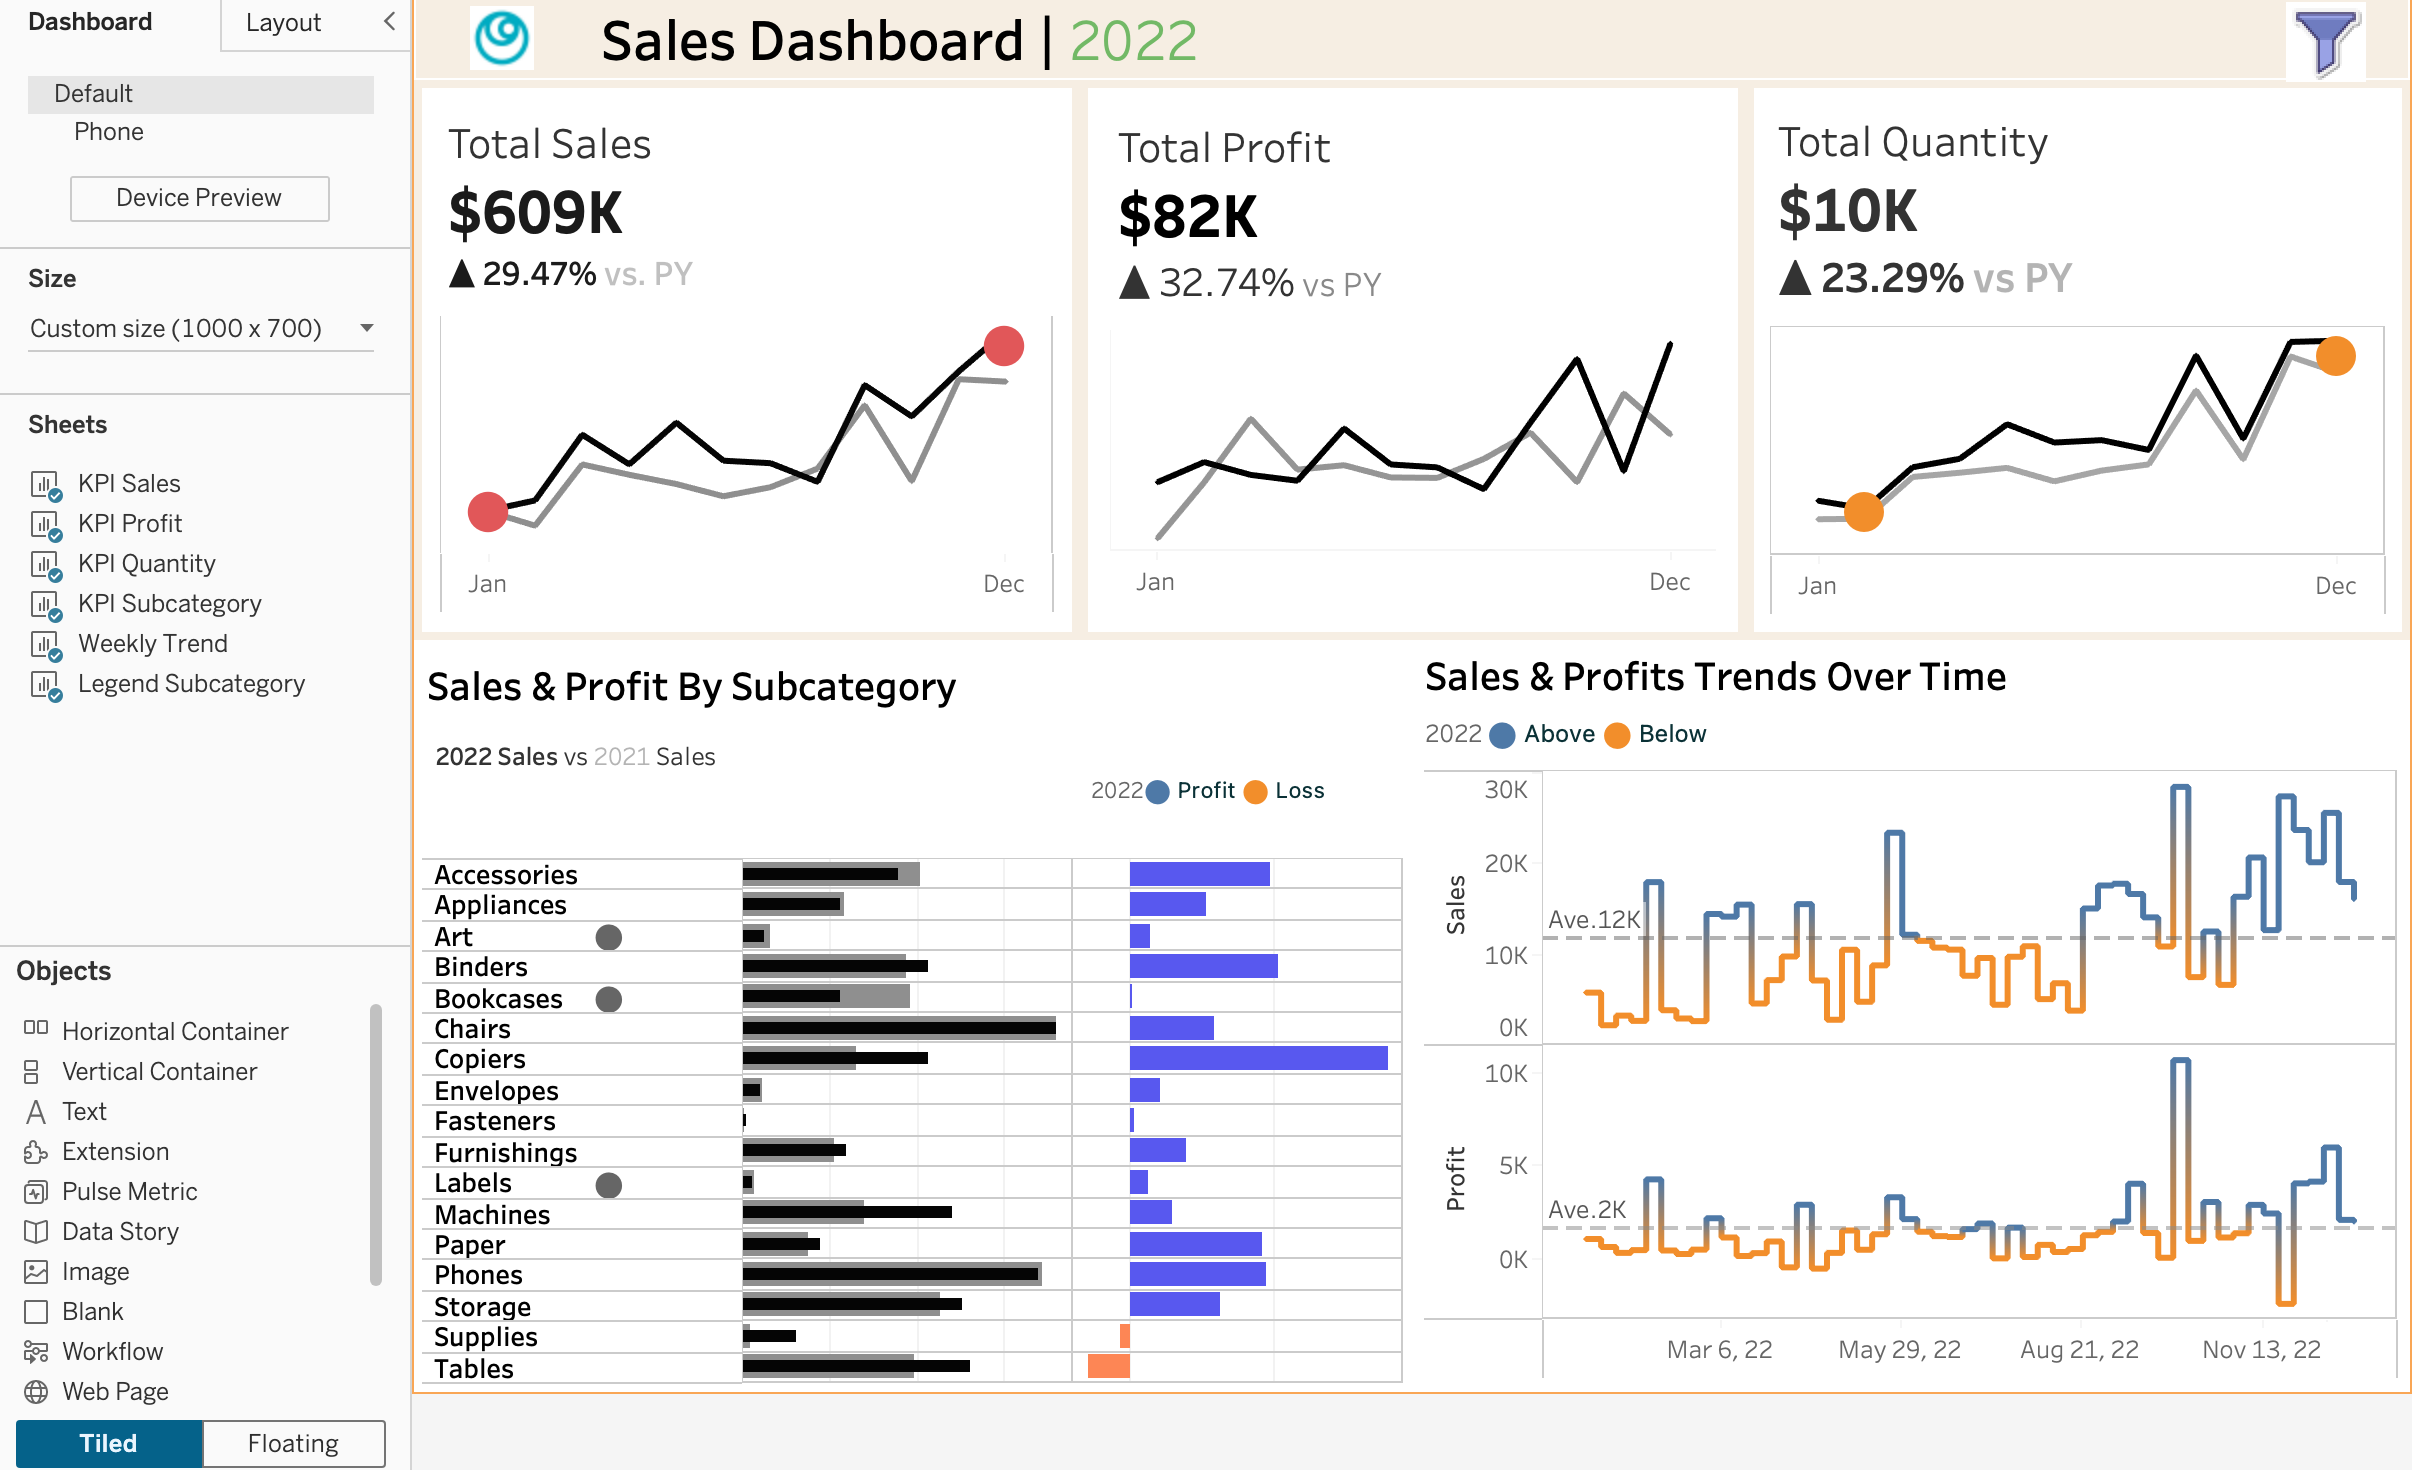

What the dashboard file says about the page in this screenshot:
{"tool":"tableau","page":{"name":"Sales Dashboard","canvas":[1000,700],"ordinal":0},"visuals":[{"type":"image","param":"Image/fibonacci-circles.jpg","box":[2,2,86,40]},{"type":"text","box":[88,2,910,40]},{"type":"dashboard-object","box":[922,4,70,40]},{"type":"worksheet","title":"KPI Sales","mark":"Automatic","rows":["Calculation_891501644715675652"],"cols":["Order Date"],"box":[1,43,333,280]},{"type":"worksheet","title":"KPI Profit","mark":"Line","cols":["Order Date"],"box":[334,43,333,280]},{"type":"worksheet","title":"KPI Quantity","mark":"Automatic","rows":["Min/Max Sales (copy)_891501645071990815"],"cols":["Order Date"],"box":[667,43,332,280]},{"type":"text","box":[1,323,499,45]},{"type":"text","box":[500,323,499,34]},{"type":"text","box":[500,357,499,25]},{"type":"worksheet","title":"Legend Subcategory","mark":"Automatic","box":[1,368,332,60]},{"type":"text","box":[333,368,167,60]},{"type":"worksheet","title":"Weekly Trend","mark":"Automatic","rows":["Calculation_891501644702752768","Calculation_891501644753985549"],"cols":["Order Date"],"box":[500,382,499,317]},{"type":"worksheet","title":"KPI Subcategory","mark":"Bar","rows":["Sub-Category","Calculation_891501645192065059"],"cols":["CY Sales (copy)_891501644703604737","Calculation_891501644702752768","Calculation_891501644753985549"],"box":[1,428,499,271]}]}

Visuals, with their boxes on the page's 1000x700 design canvas (x1, y1, x2, y2). These are canvas units, not pixel positions in the 2412x1470 screenshot, which may show the page scaled, cropped or inside an application window:
image: (2, 2, 88, 42)
text: (88, 2, 998, 42)
dashboard-object: (922, 4, 992, 44)
"KPI Sales" worksheet: (1, 43, 334, 323)
"KPI Profit" worksheet (Line marks): (334, 43, 667, 323)
"KPI Quantity" worksheet: (667, 43, 999, 323)
text: (1, 323, 500, 368)
text: (500, 323, 999, 357)
text: (500, 357, 999, 382)
"Legend Subcategory" worksheet: (1, 368, 333, 428)
text: (333, 368, 500, 428)
"Weekly Trend" worksheet: (500, 382, 999, 699)
"KPI Subcategory" worksheet (Bar marks): (1, 428, 500, 699)
